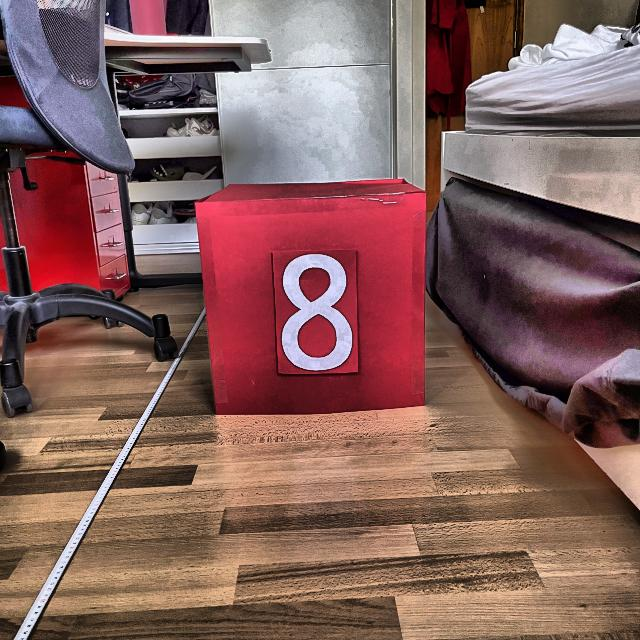eight: (279, 252, 355, 372)
red box: (191, 176, 429, 418)
